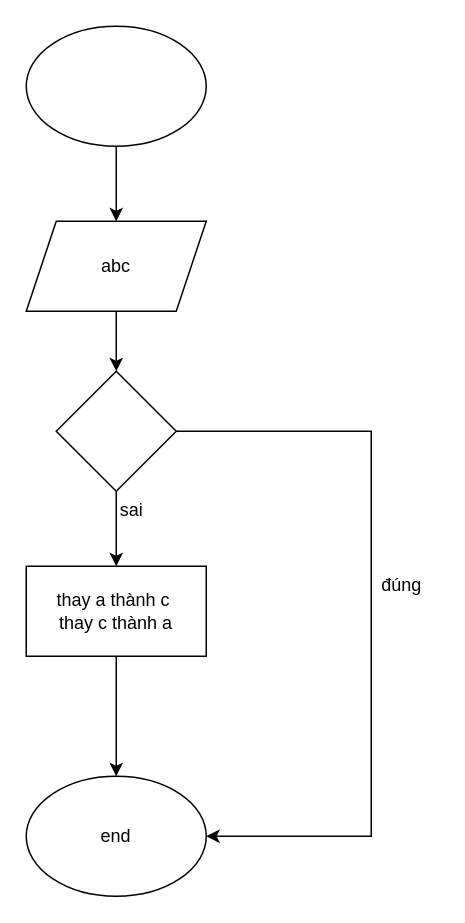
Some shapes in this 465 by 923 pixel diagram are drawn without their labels. Each missing label, with the centre of its shape:
"a=c" goes at point 115,430.
"start" goes at point 115,85.
